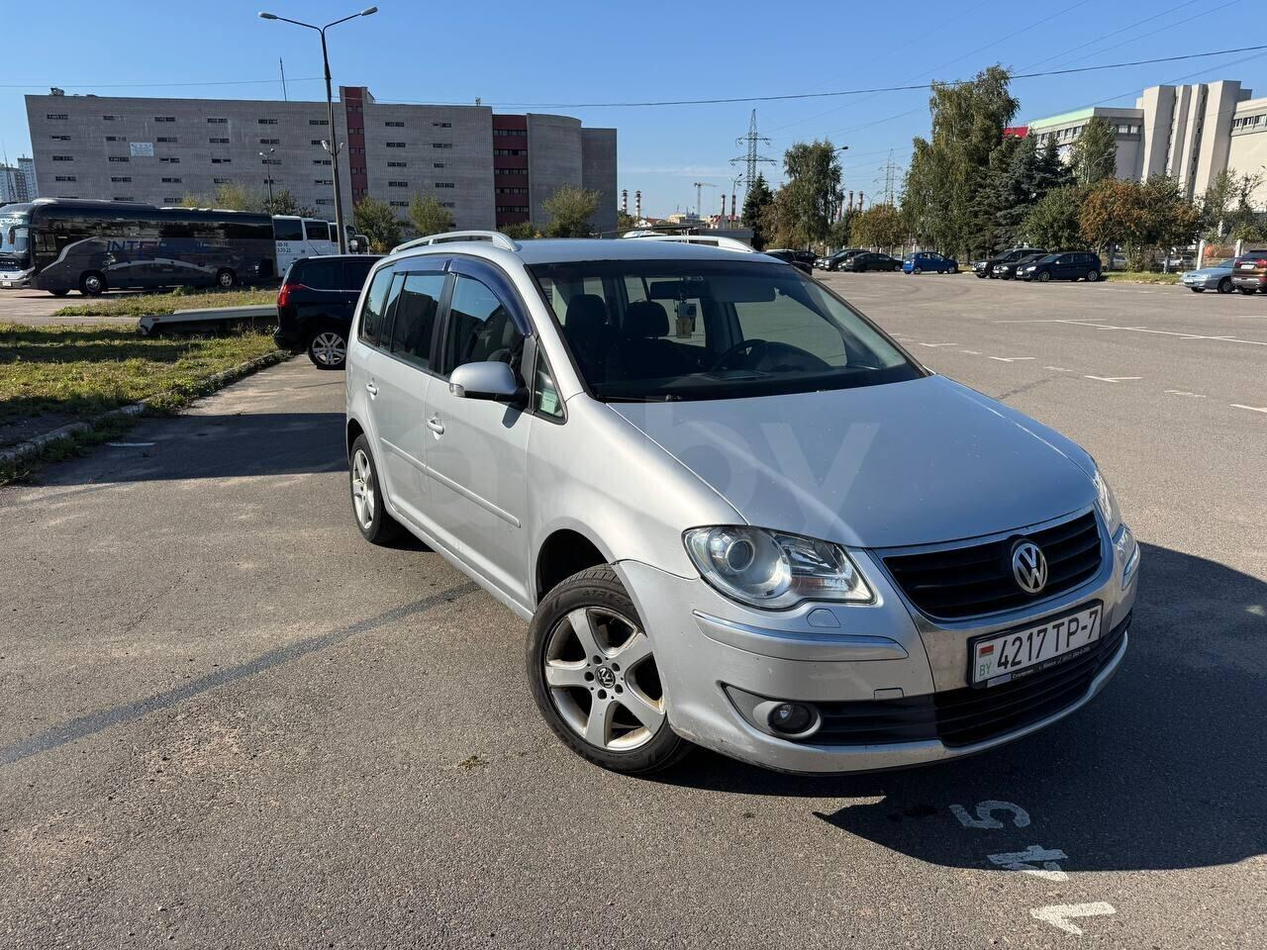Touran_2006-2010: (337, 233, 1151, 800)
